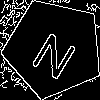N: (29, 23, 85, 82)
